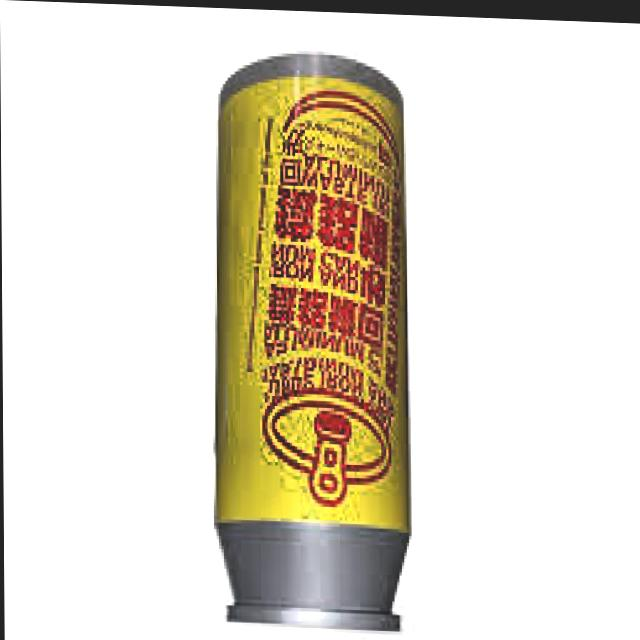can: (208, 38, 417, 640)
